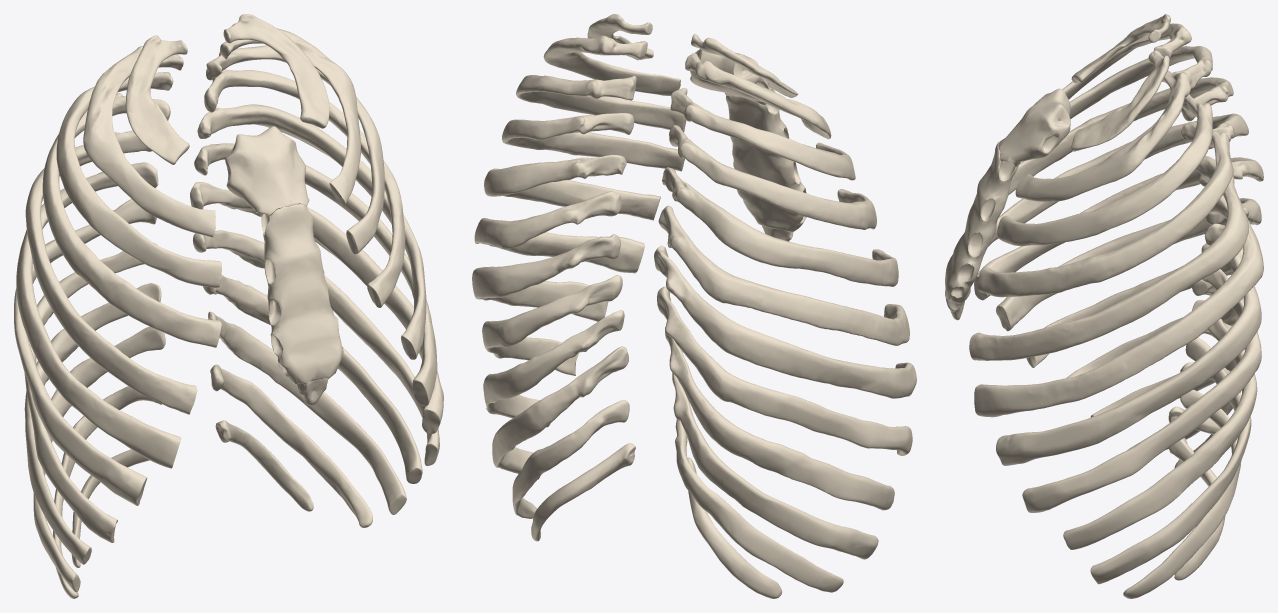
Rendered from skeletal.thorax.glb.
3 views of the same model, side by side, from view 1: azimuth 30°, elevation 25°; view 2: azimuth 150°, elevation 25°; view 3: azimuth 270°, elevation 25° (orthographic). The views are drawn at different scales.
Parts seen in each view (by area): view 1: body_of_sternum, right_sixth_rib, right_fourth_rib, right_fifth_rib, right_third_rib, right_second_rib, right_seventh_rib, left_fifth_rib, manubrium, left_tenth_rib, left_seventh_rib, left_fourth_rib (+14 smaller); view 2: right_seventh_rib, right_sixth_rib, right_eighth_rib, right_ninth_rib, right_fifth_rib, right_tenth_rib, left_fifth_rib, left_fourth_rib, left_sixth_rib, left_seventh_rib, right_fourth_rib, body_of_sternum (+14 smaller); view 3: left_sixth_rib, left_fifth_rib, left_seventh_rib, left_fourth_rib, left_eighth_rib, left_third_rib, left_ninth_rib, left_second_rib, left_tenth_rib, body_of_sternum, manubrium, left_eleventh_rib (+13 smaller).
Part boxes in pixels (bbox=[...]): body_of_sternum: bbox=[261, 204, 343, 384]; right_sixth_rib: bbox=[16, 162, 180, 468]; right_fourth_rib: bbox=[42, 93, 221, 347]; right_fifth_rib: bbox=[25, 130, 197, 414]; right_third_rib: bbox=[56, 72, 221, 287]; right_second_rib: bbox=[83, 46, 215, 237]; right_seventh_rib: bbox=[14, 199, 156, 505]; left_fifth_rib: bbox=[197, 104, 426, 359]; manubrium: bbox=[225, 126, 309, 216]; left_tenth_rib: bbox=[208, 311, 406, 514]; left_seventh_rib: bbox=[190, 182, 443, 434]; left_fourth_rib: bbox=[204, 69, 405, 307]; right_seventh_rib: bbox=[654, 245, 916, 398]; right_sixth_rib: bbox=[658, 205, 909, 345]; right_eighth_rib: bbox=[657, 286, 912, 455]; right_ninth_rib: bbox=[665, 327, 894, 510]; right_fifth_rib: bbox=[662, 167, 898, 286]; right_tenth_rib: bbox=[672, 373, 878, 559]; left_fifth_rib: bbox=[484, 155, 660, 220]; left_fourth_rib: bbox=[502, 113, 684, 171]; left_sixth_rib: bbox=[474, 191, 644, 273]; left_seventh_rib: bbox=[472, 234, 620, 321]; right_fourth_rib: bbox=[669, 125, 876, 229]; body_of_sternum: bbox=[726, 95, 806, 232]; left_sixth_rib: bbox=[974, 195, 1263, 417]; left_fifth_rib: bbox=[969, 156, 1248, 360]; left_seventh_rib: bbox=[996, 223, 1261, 465]; left_fourth_rib: bbox=[977, 121, 1233, 297]; left_eighth_rib: bbox=[1022, 269, 1261, 512]; left_third_rib: bbox=[997, 94, 1212, 246]; left_ninth_rib: bbox=[1063, 300, 1257, 549]; left_second_rib: bbox=[1015, 70, 1191, 201]; left_tenth_rib: bbox=[1090, 337, 1251, 584]; body_of_sternum: bbox=[945, 141, 1018, 303]; manubrium: bbox=[998, 88, 1070, 167]; left_eleventh_rib: bbox=[1123, 389, 1241, 598].
Size of the model in its own units: 0.2729 by 0.3617 by 0.2107.
